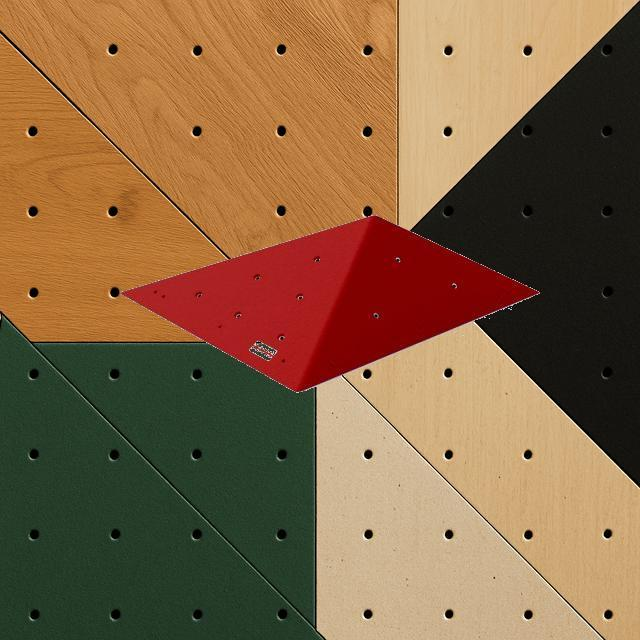Volume: (116, 214, 542, 392)
